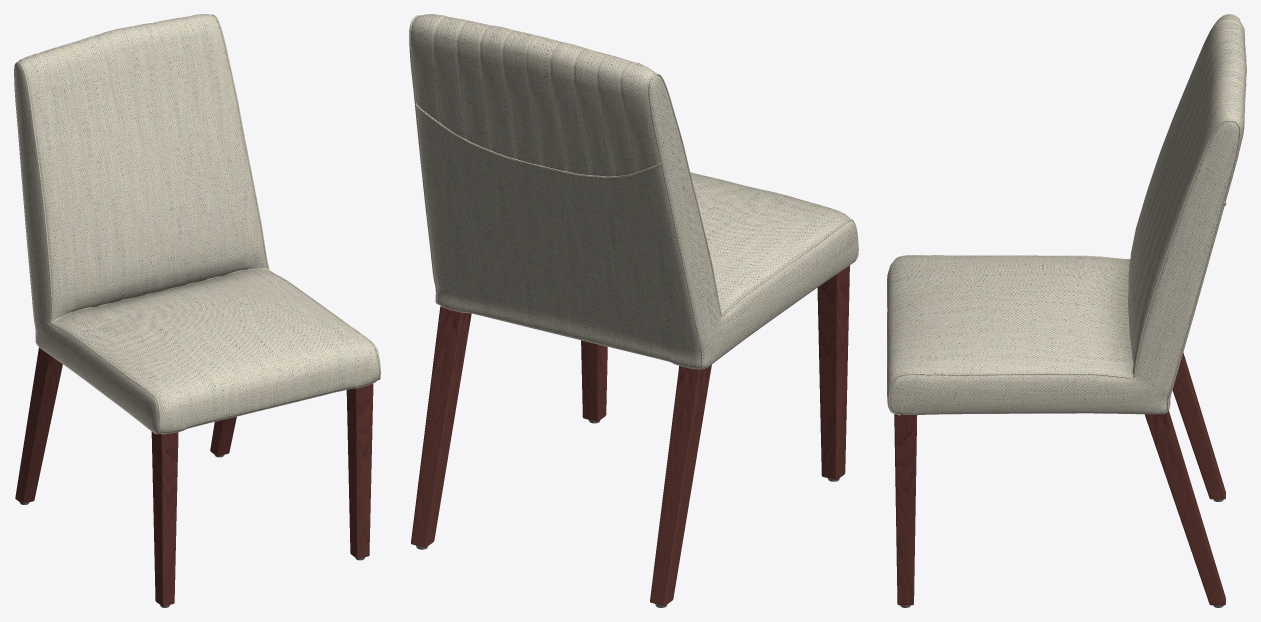
File: abo-B07QFRSLZB.glb
The picture shows the model from 3 angles, left to right: view 1: azimuth 30°, elevation 25°; view 2: azimuth 150°, elevation 25°; view 3: azimuth 270°, elevation 25°; orthographic projection. The views are drawn at different scales.
Size of the model in its own units: 0.48 by 0.9 by 0.594.
Materials: 1 (1 with a texture image).
